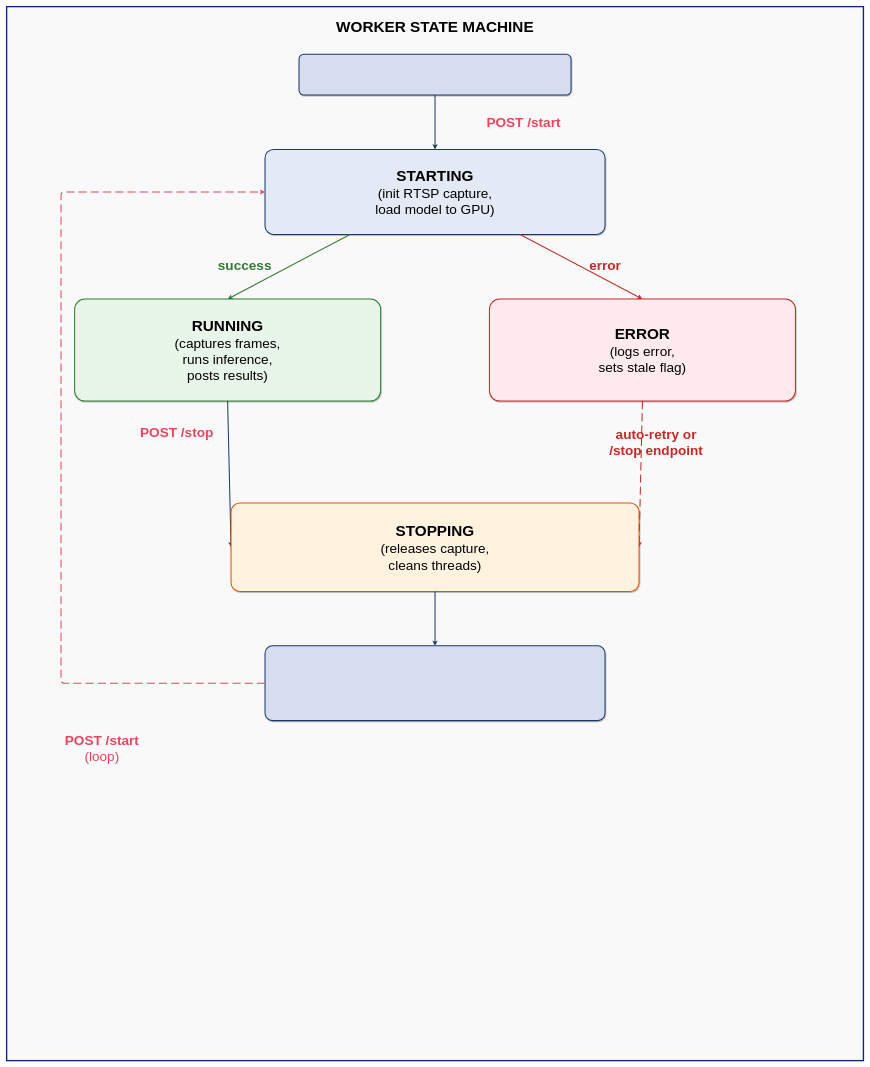
Image size: 870x1067. Some labels were removed from this diagram. Here are the shapes that lost their labels. From the top down, the centre of each, then its label:
At (435,75): "CREATED".
At (435,683): "STOPPED (idle, no threads)".
